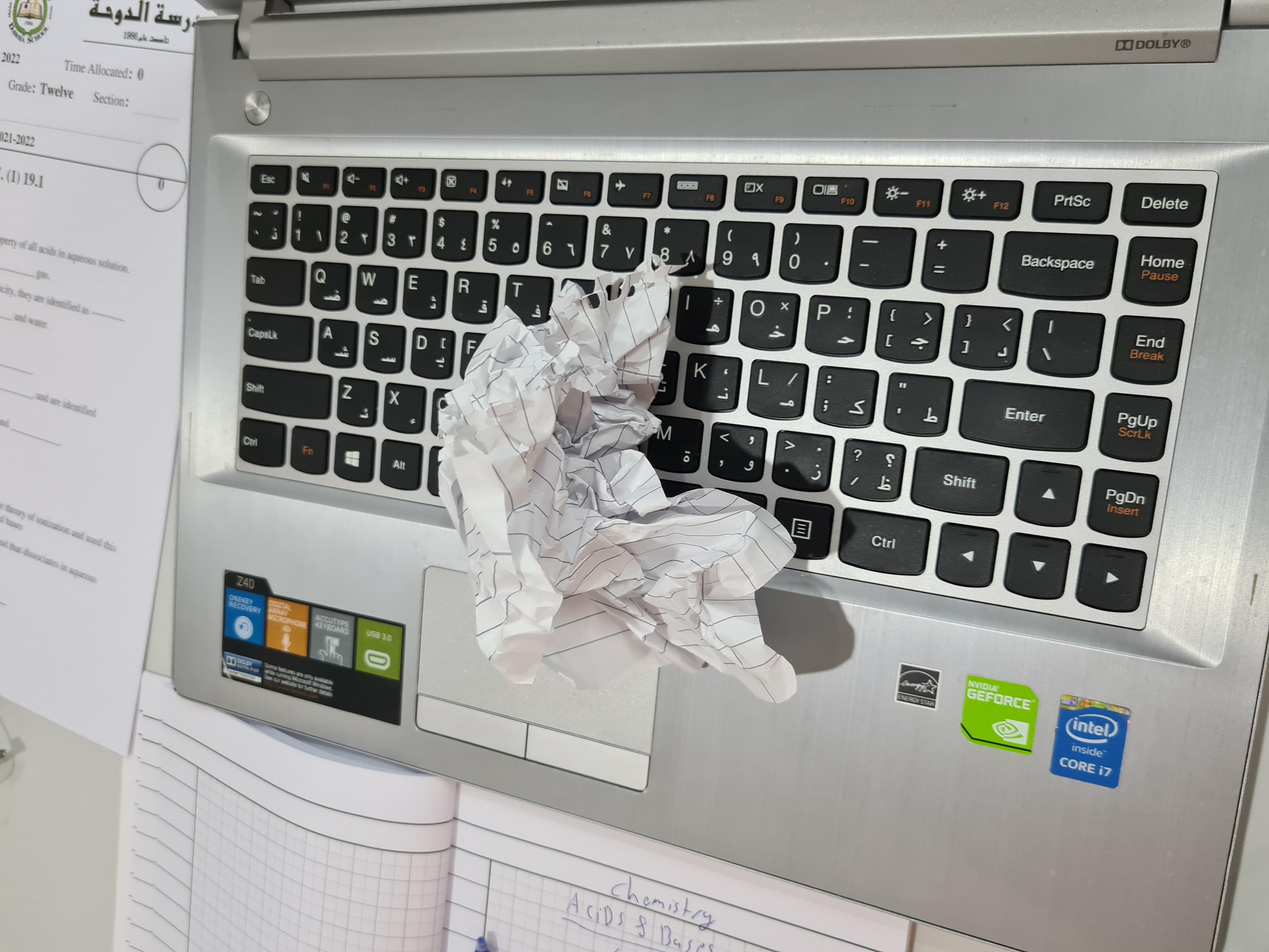paper: (320, 338, 891, 608)
